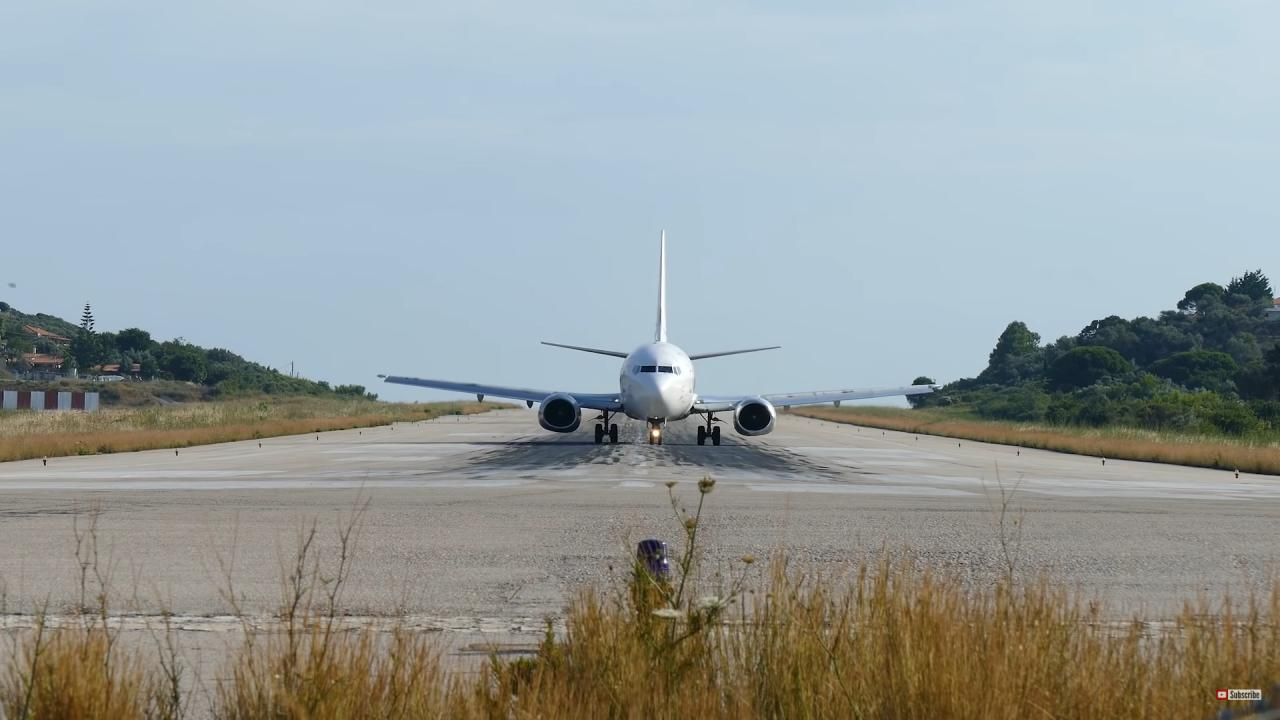Airplane: (366, 216, 951, 461)
